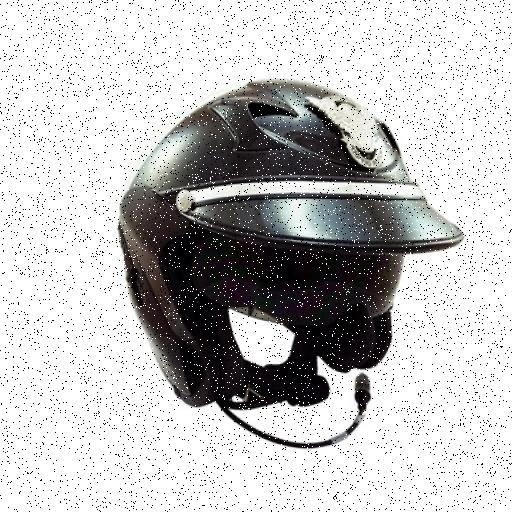Helmet: (120, 81, 463, 427)
